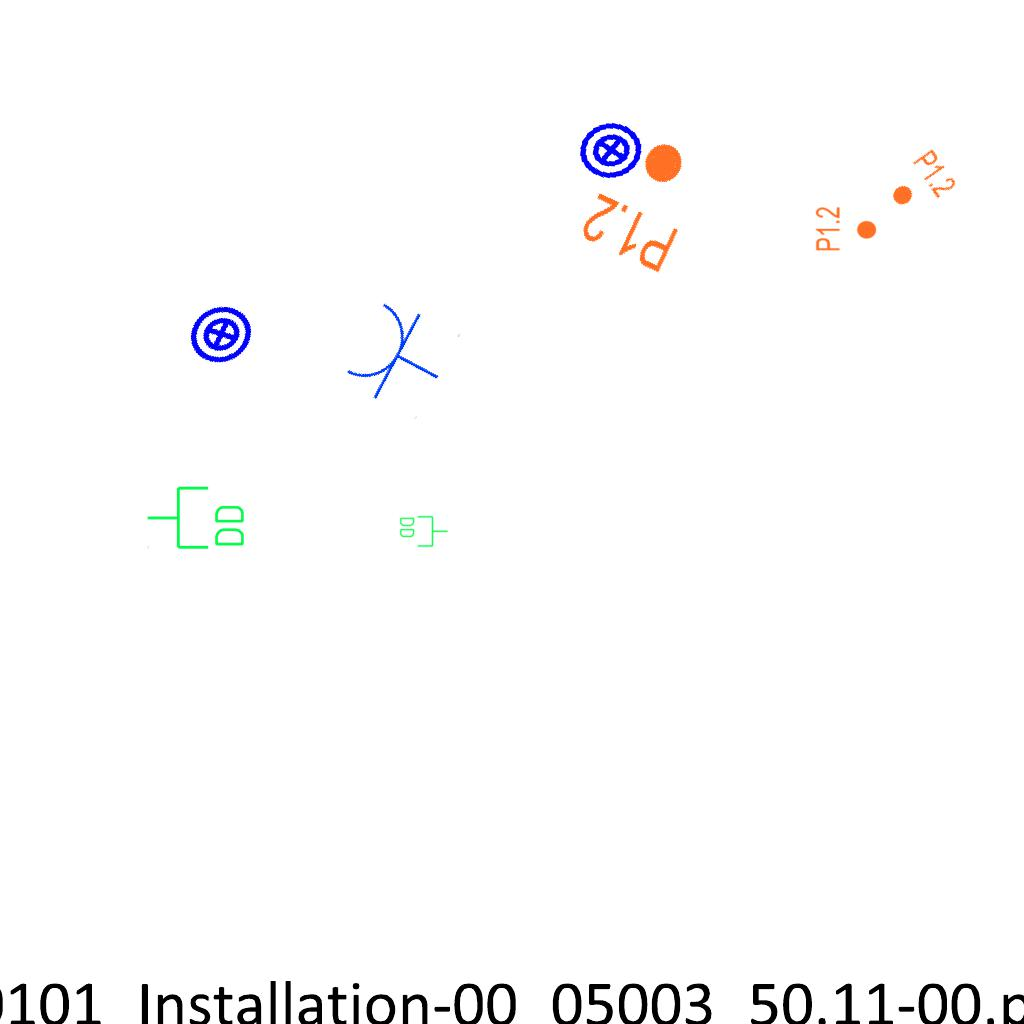Datenanschluss_zweifach: (145, 484, 248, 553), (398, 514, 449, 548)
Downlight_LED_Einbauleuchten_Flur: (575, 122, 714, 278), (880, 146, 960, 222), (814, 206, 878, 252)
Schukosteckdose_einfach: (338, 291, 462, 422)
Taster_beleuchtet: (177, 290, 265, 378), (573, 112, 649, 188)
